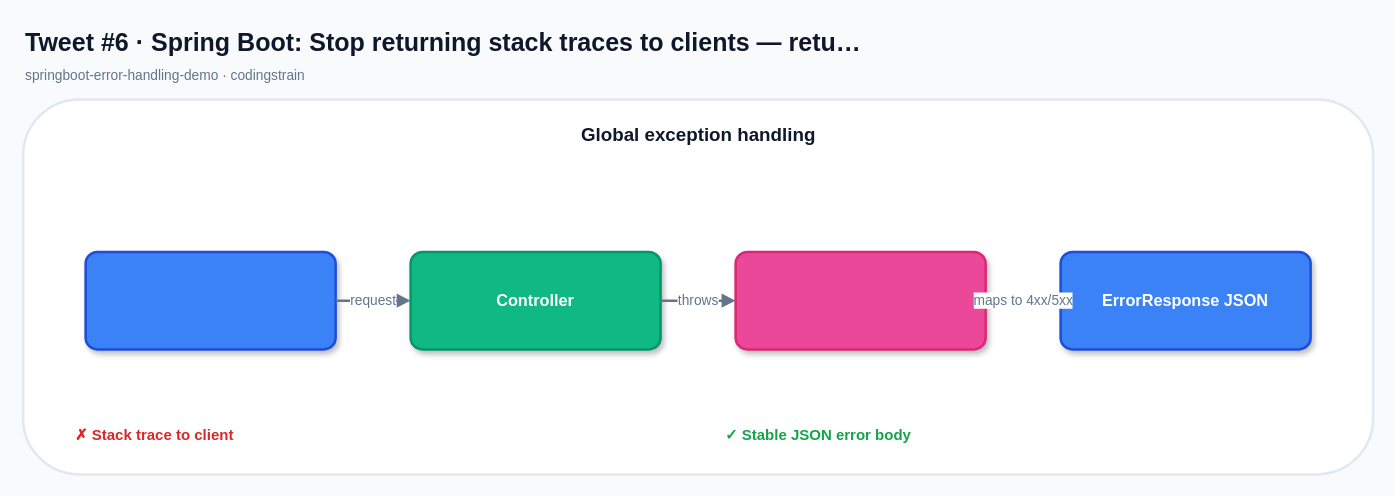
Some shapes in this 1395 by 496 pixel diagram are drawn without their labels. Here are the shapes that lost their labels. From the top down, the centre of each, then its label:
At (211,302): "HTTP Client".
At (861,302): "@RestControllerAdvice".
